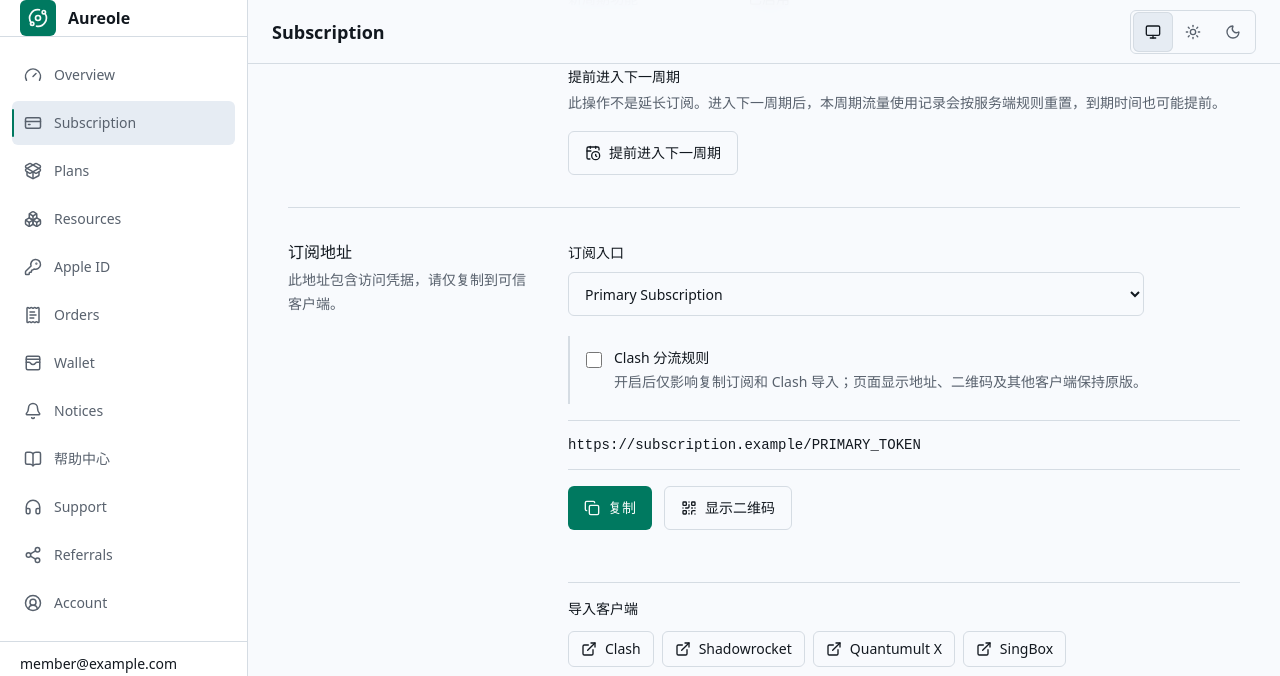
Test case: Subscription delivery selection and credential runtime › clears CC state when the selected entry changes
(page scrolled)
Expected: the text "https://subscription.example/PRIMARY_TOKEN" is shown, x1=568 y1=437 x2=921 y2=453
Step 1. Click the checkbox labelled "Clash 分流规则 开启后仅影响复制订阅和 Clash 导入；页面显示地址、二维码及其他客户端保持原版。" → (594, 360), box x1=586 y1=352 x2=602 y2=368
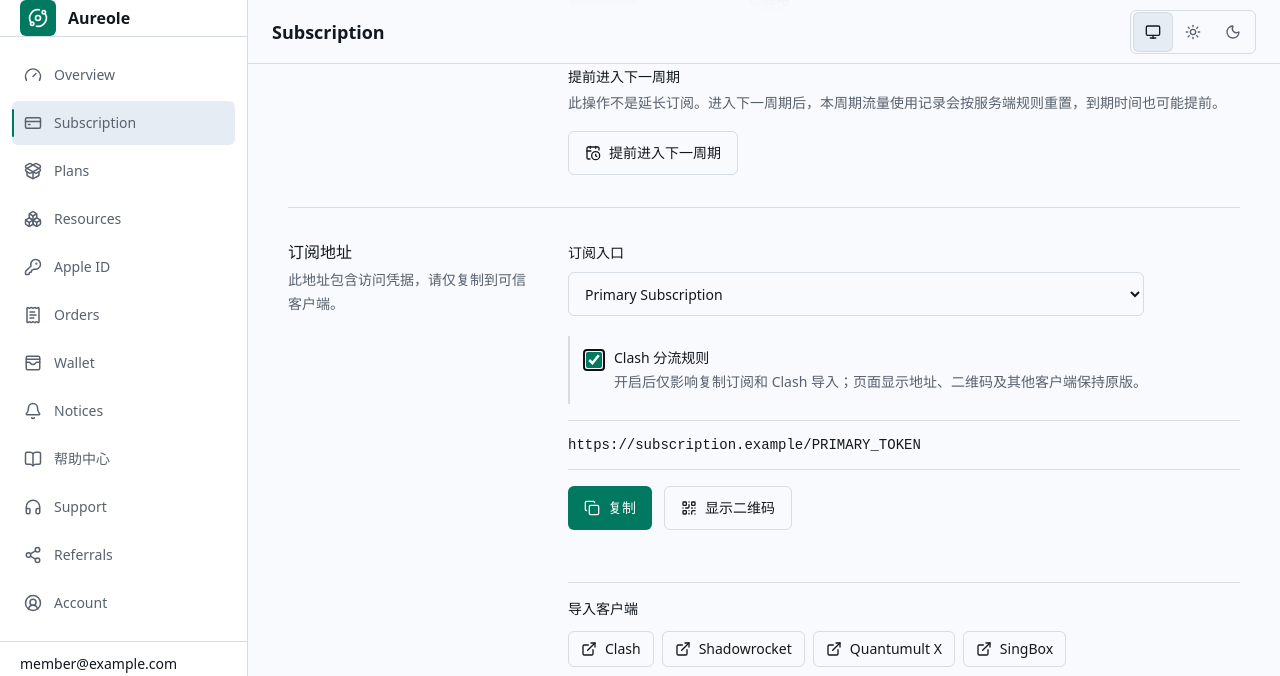
Expected: the button "复制" is enabled, x1=568 y1=486 x2=652 y2=530
Step 2. Select "Backup Subscription" in the dropdown labelled "订阅入口" → (856, 294), box x1=568 y1=272 x2=1144 y2=316
(page scrolled)
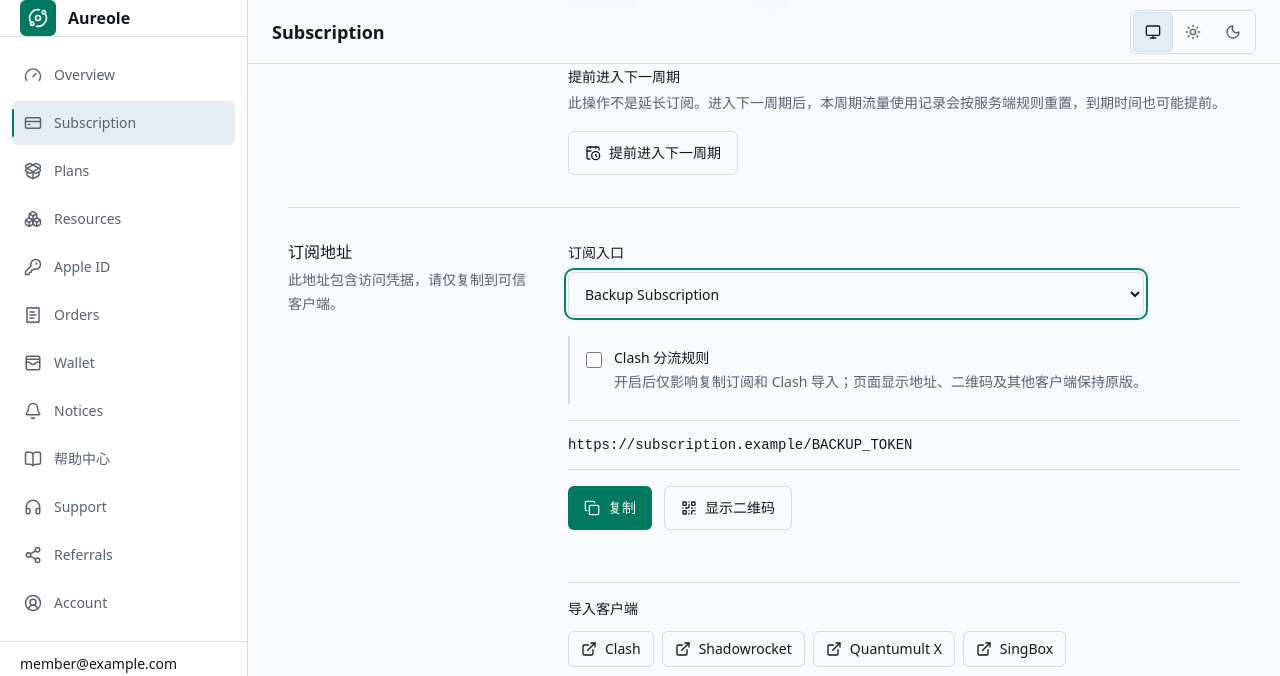
Now the text "https://subscription.example/BACKUP_TOKEN" is shown, box x1=568 y1=437 x2=912 y2=453
Now the checkbox labelled "Clash 分流规则 开启后仅影响复制订阅和 Clash 导入；页面显示地址、二维码及其他客户端保持原版。" is not checked, box x1=586 y1=352 x2=602 y2=368
